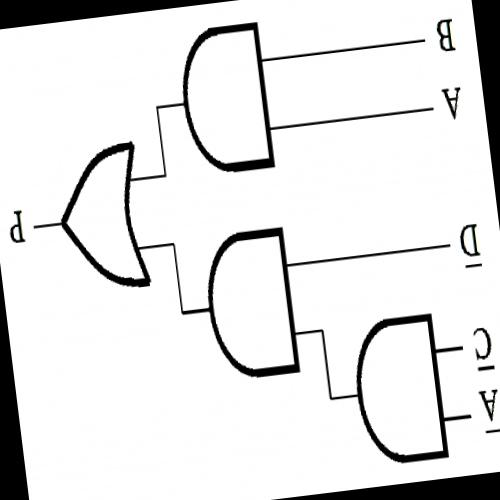and: (168, 13, 282, 185), (194, 220, 307, 391), (343, 306, 454, 474)
or: (46, 131, 160, 306)
